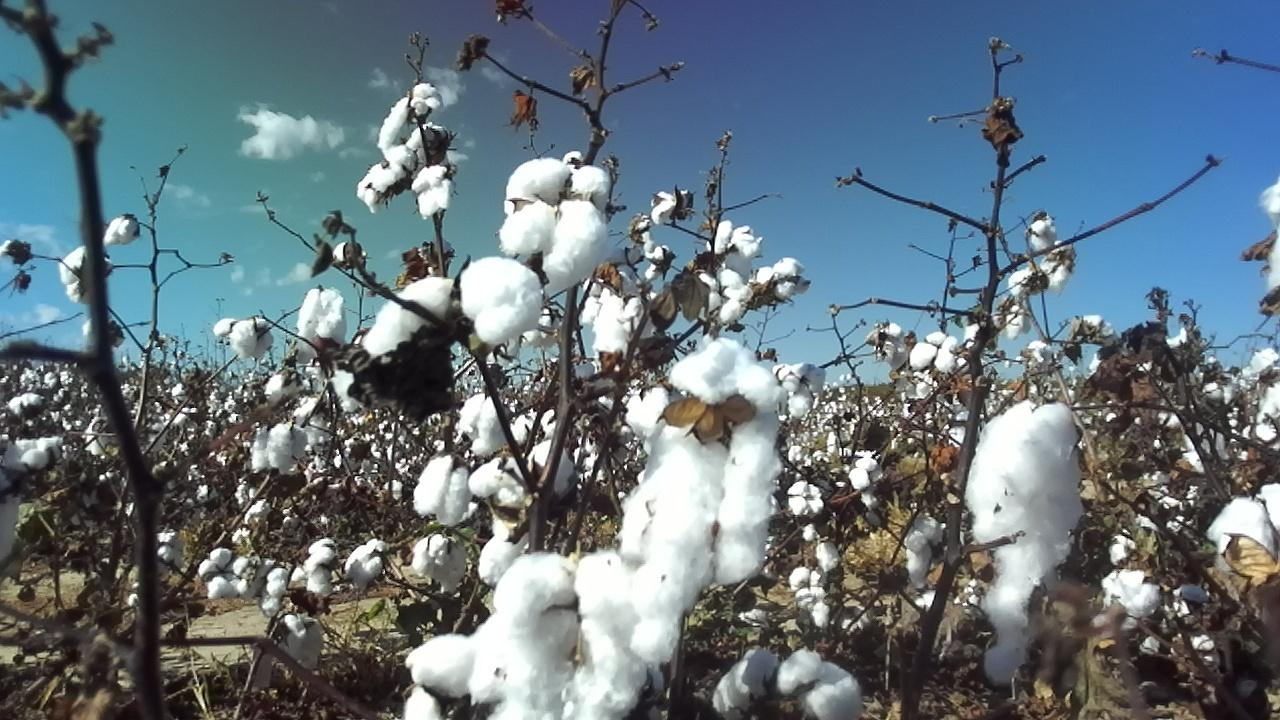cotton_ready: (621, 335, 784, 658), (965, 400, 1082, 682), (469, 550, 648, 720), (501, 157, 610, 293), (469, 444, 574, 585), (712, 649, 867, 720), (1207, 482, 1280, 605), (364, 275, 456, 360), (405, 632, 491, 720), (461, 258, 544, 349), (592, 284, 656, 359), (380, 84, 442, 159), (411, 454, 472, 526), (412, 534, 472, 594), (299, 286, 349, 357), (250, 422, 309, 477), (694, 269, 754, 323), (905, 513, 944, 592), (455, 395, 507, 454), (1102, 567, 1161, 617), (59, 247, 109, 304), (3, 437, 67, 477), (782, 363, 825, 420), (705, 217, 764, 258), (412, 164, 452, 221), (753, 259, 810, 298), (0, 470, 24, 562), (355, 165, 403, 210), (910, 330, 957, 374), (230, 317, 275, 359), (408, 124, 449, 163)
